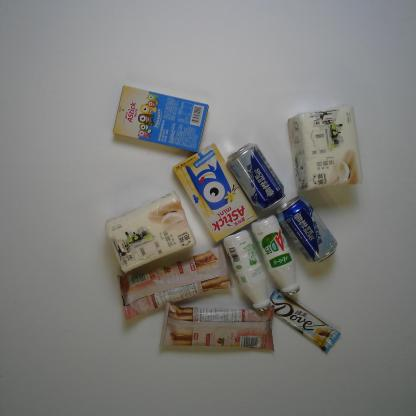Alcohol: (276, 197, 337, 268), (226, 142, 283, 210)
Chocolate: (258, 288, 343, 358)
Dessert: (115, 244, 236, 323), (174, 145, 259, 248), (108, 82, 210, 154), (155, 298, 280, 356)
Milk: (221, 229, 272, 312), (250, 216, 300, 296)
Tissue: (104, 193, 198, 276), (286, 103, 364, 197)
